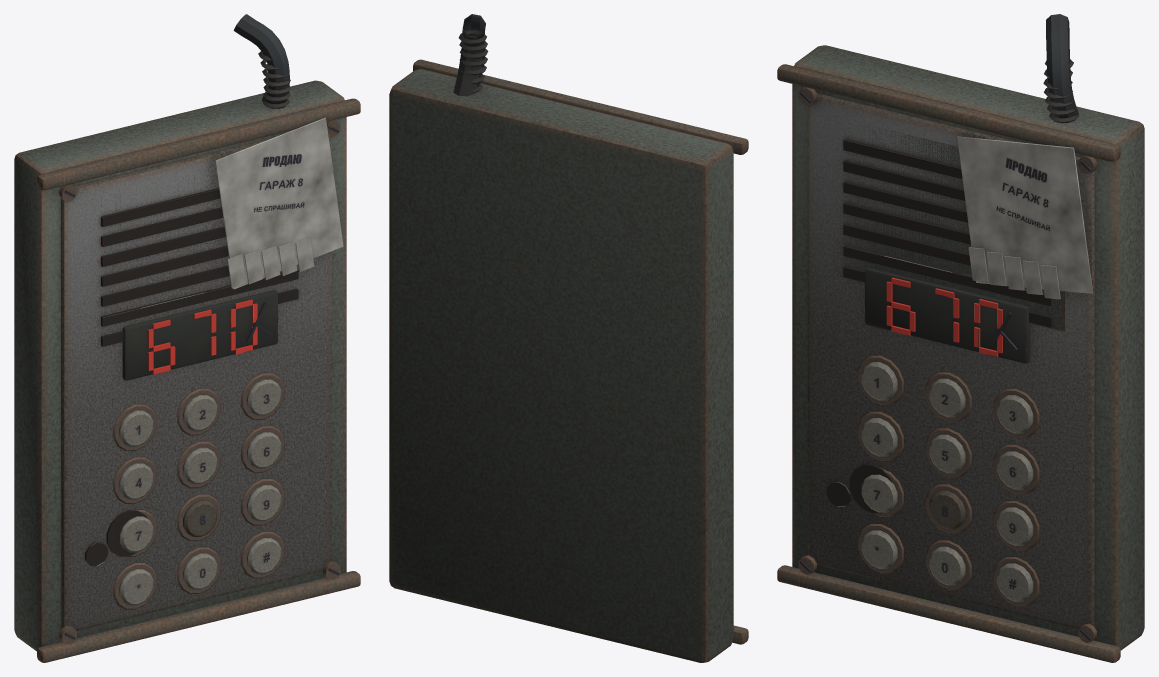
Rendered from g67_intercom.glb.
3 views of the same model, side by side, from view 1: azimuth 30°, elevation 25°; view 2: azimuth 150°, elevation 25°; view 3: azimuth 330°, elevation 25° (orthographic). The views are drawn at different scales.
Parts seen in each view (by area): view 1: face, frame, paper, disp, lip_bot, lip_top, slot5, cable, slot4, slot3, slot2, slot1 (+25 smaller); view 2: frame, lip_top, cable; view 3: face, frame, paper, disp, grille_frame, lip_bot, lip_top, slot5, cable, slot3, slot4, slot2 (+32 smaller).
Boxes of the visible parts, x1,y1,x2,y2 form: face: (61, 137, 331, 630); frame: (14, 80, 346, 651); paper: (215, 117, 343, 289); disp: (122, 290, 277, 380); lip_bot: (37, 571, 360, 662); lip_top: (37, 98, 360, 190); slot5: (101, 269, 298, 326); cable: (233, 14, 289, 104); slot4: (101, 265, 229, 306); slot3: (101, 246, 228, 286); slot2: (101, 226, 225, 266); slot1: (101, 207, 223, 246); frame: (389, 69, 733, 662); lip_top: (413, 59, 748, 154); cable: (453, 14, 485, 96); face: (807, 93, 1094, 628); frame: (792, 45, 1144, 650); paper: (957, 136, 1092, 293); disp: (865, 267, 1029, 363); grille_frame: (833, 125, 1064, 331); lip_bot: (777, 565, 1120, 662); lip_top: (777, 64, 1120, 161); slot5: (843, 245, 1052, 306); cable: (1046, 14, 1078, 118); slot3: (843, 202, 970, 244); slot4: (843, 223, 970, 265); slot2: (843, 181, 968, 222).
Bounding box in the file's own units: 0.31 × 0.5283 × 0.0659.
1 material, 1 textured.
